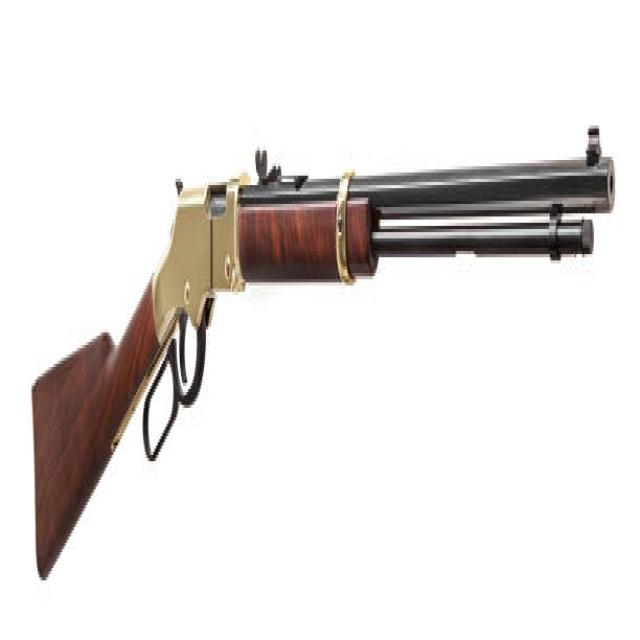rifle: (31, 116, 621, 603)
